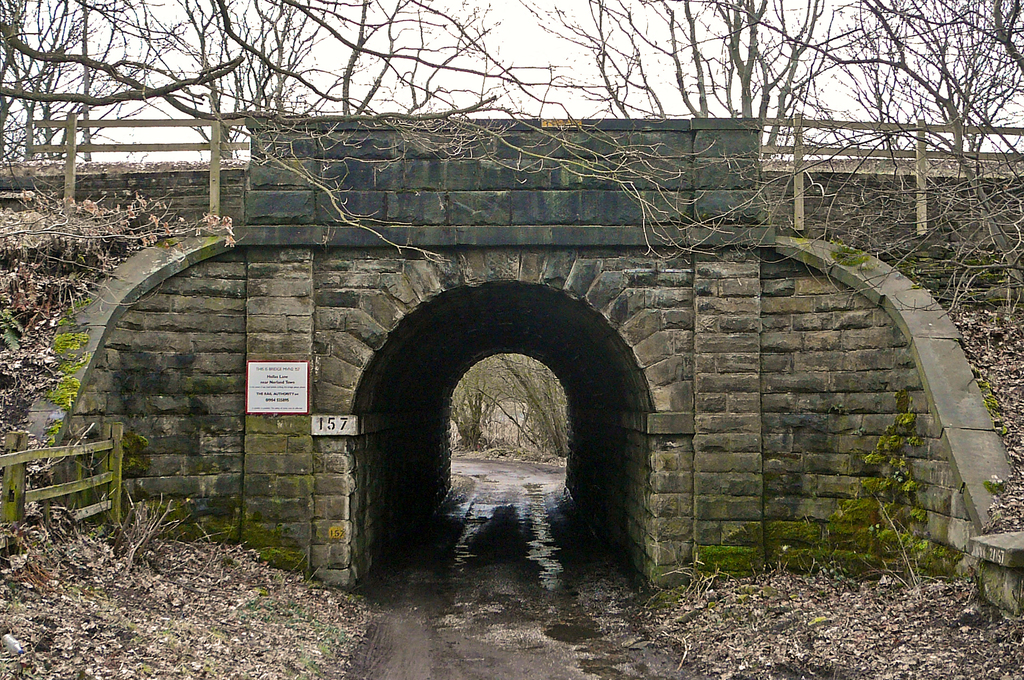Tree: (0, 0, 1023, 335), (467, 354, 564, 454)
